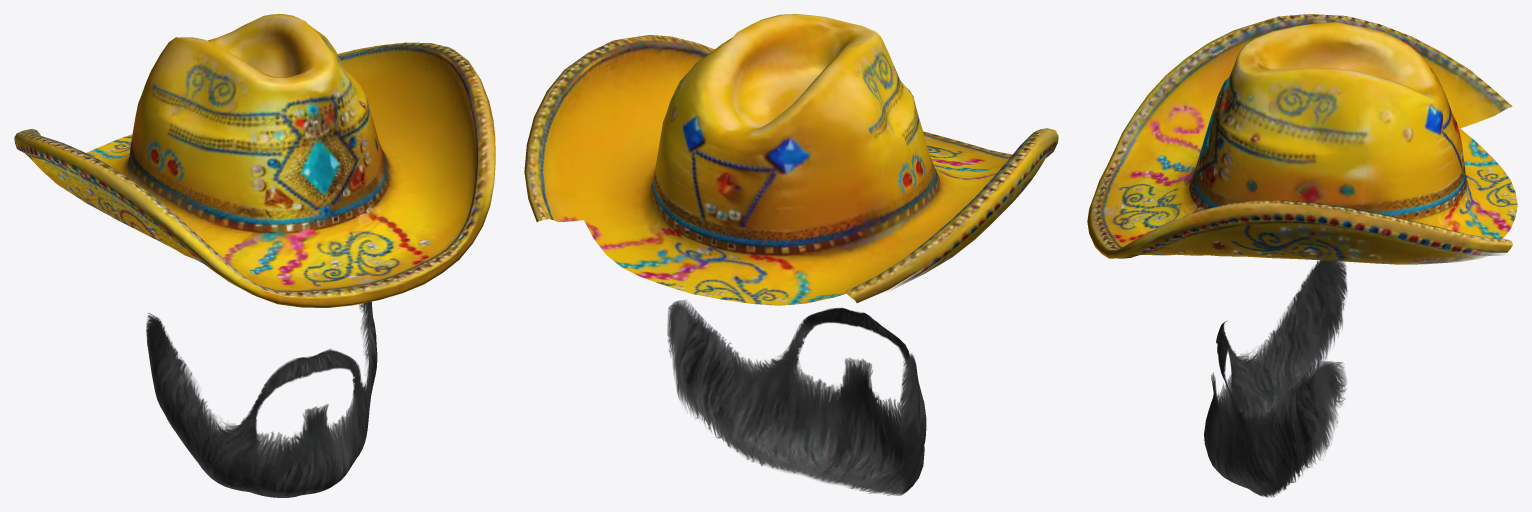
The model's file is somybarb.glb.
3 views of the same model, side by side, from view 1: azimuth 30°, elevation 25°; view 2: azimuth 150°, elevation 25°; view 3: azimuth 270°, elevation 25° (orthographic). The views are drawn at different scales.
Visible parts, largest first — view 1: sombrero, barba completa; view 2: sombrero, barba completa; view 3: sombrero, barba completa.
Boxes of the visible parts, x1=… form: sombrero: x1=14, y1=14, x2=495, y2=307; barba completa: x1=146, y1=301, x2=377, y2=497; sombrero: x1=524, y1=14, x2=1058, y2=305; barba completa: x1=667, y1=300, x2=926, y2=495; sombrero: x1=1087, y1=14, x2=1517, y2=264; barba completa: x1=1204, y1=260, x2=1347, y2=497.
Bounding box in the file's own units: 0.4588 × 0.4621 × 0.4175.
3 materials, 3 textured.
